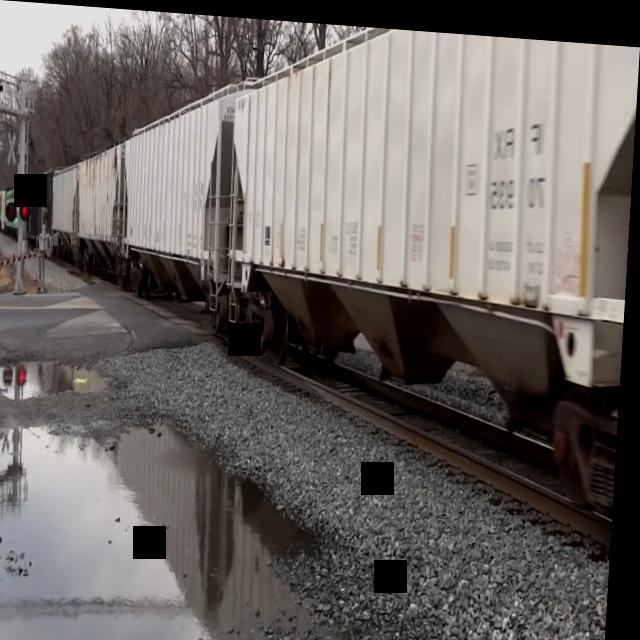hopper: (221, 14, 640, 539), (115, 58, 241, 330)
